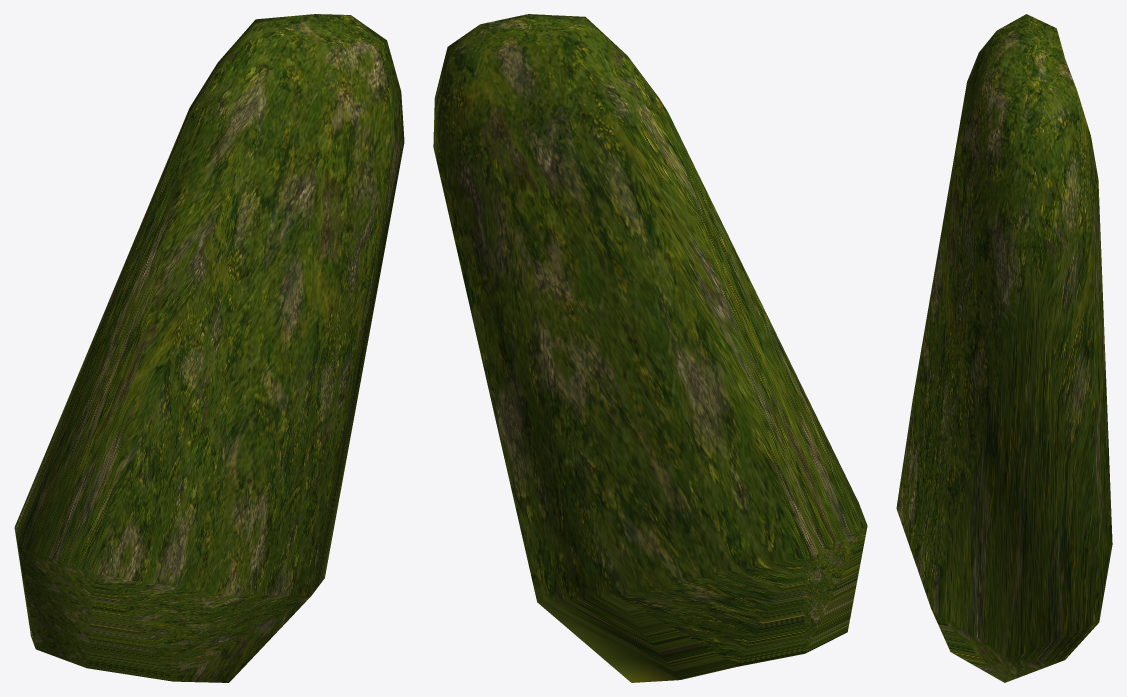
The model's file is OVERHILL_A_01_LINE325.fbx.
The picture shows the model from 3 angles, left to right: view 1: azimuth 30°, elevation 25°; view 2: azimuth 150°, elevation 25°; view 3: azimuth 270°, elevation 25°; orthographic projection. The views are drawn at different scales.
Visible parts, largest first — view 1: OVERHILL_A_01_LINE325; view 2: OVERHILL_A_01_LINE325; view 3: OVERHILL_A_01_LINE325.
Boxes of the visible parts, x1,y1,x2,y2 form: OVERHILL_A_01_LINE325: (14, 14, 404, 682); OVERHILL_A_01_LINE325: (433, 14, 867, 682); OVERHILL_A_01_LINE325: (896, 14, 1112, 682).
Size of the model in its own units: 47837 by 70633 by 20194.
1 material, 1 textured.
